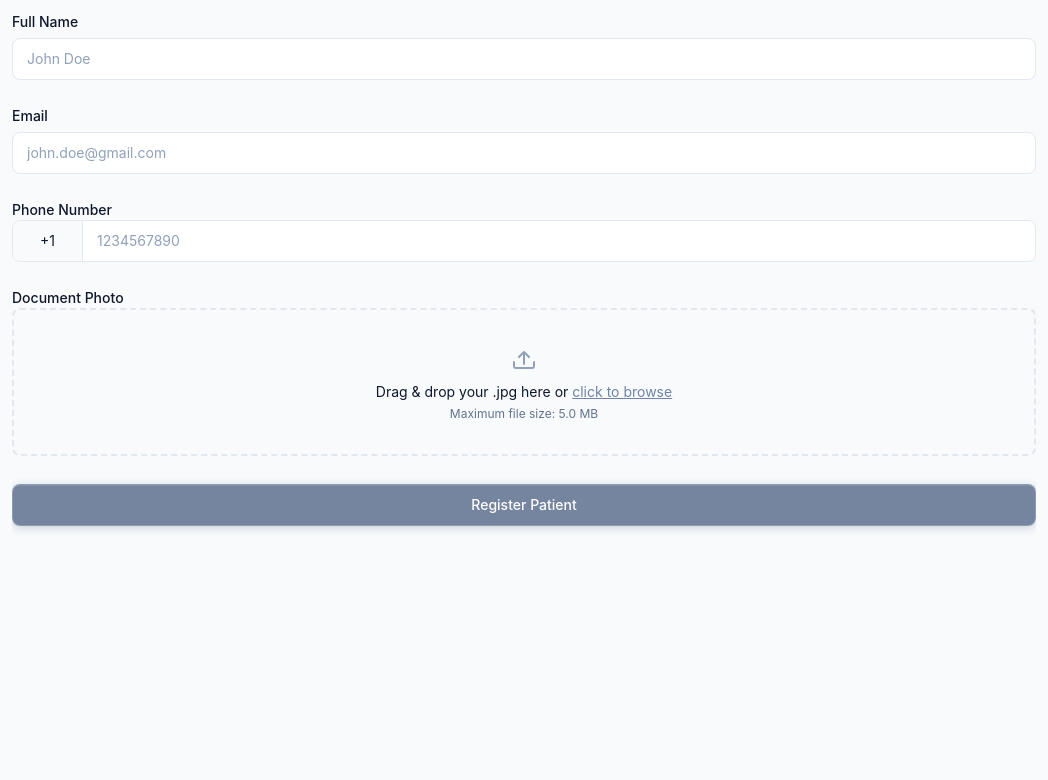
Scenario: PatientForm › validates full name contains only letters and spaces
The image size is (1048, 780).
In the field with placeholder "John Doe": point(524, 59) [12,38,1036,80], type "John123"
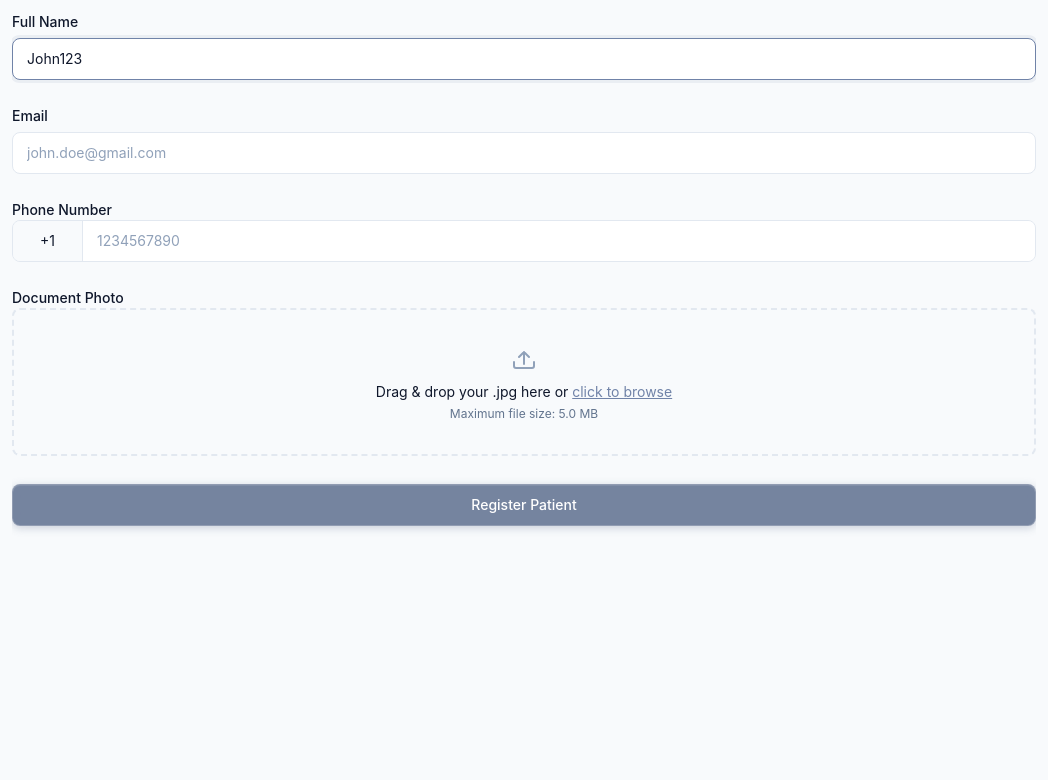
Click the button "Register Patient": point(524, 505) [12,484,1036,526]
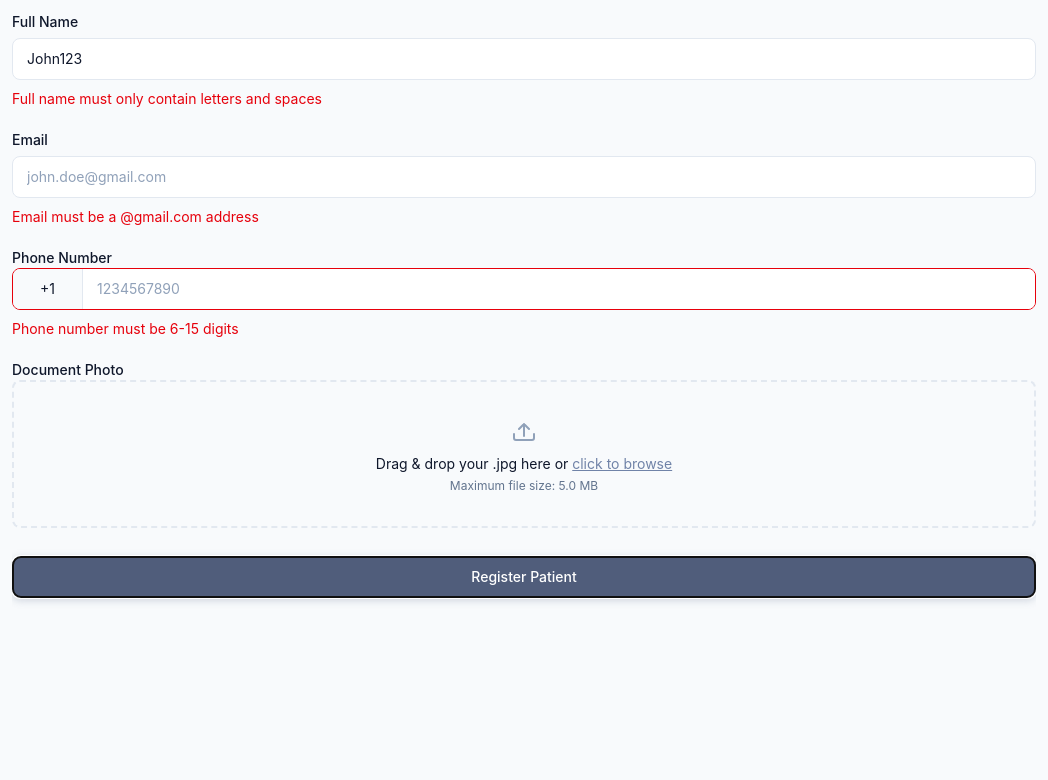
Check: the text "Full name must only contain letters and spaces" is shown, box [12,90,322,107]
